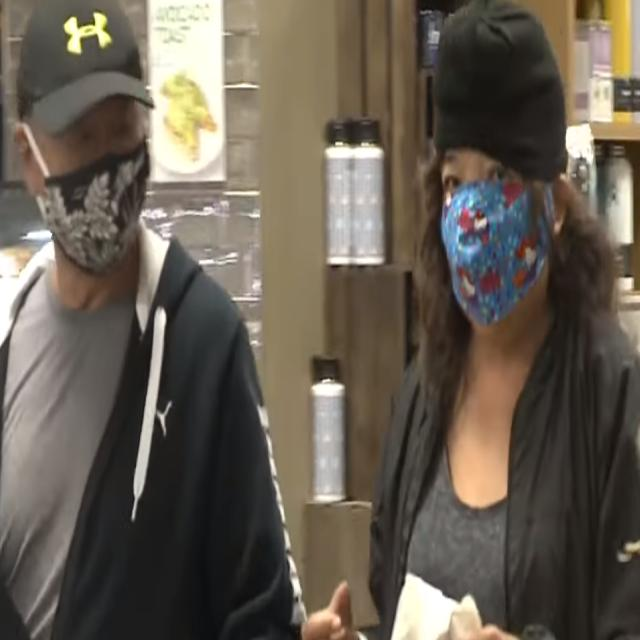hat: (432, 0, 568, 173), (20, 4, 152, 128)
